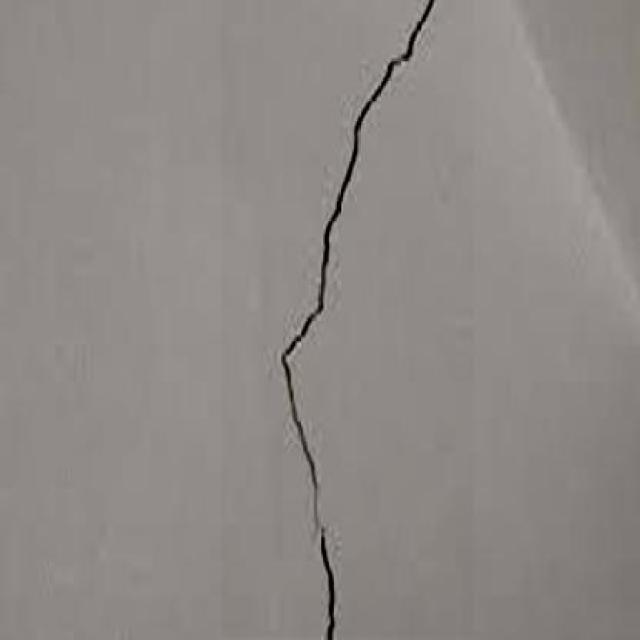Crack: (229, 0, 479, 639)
